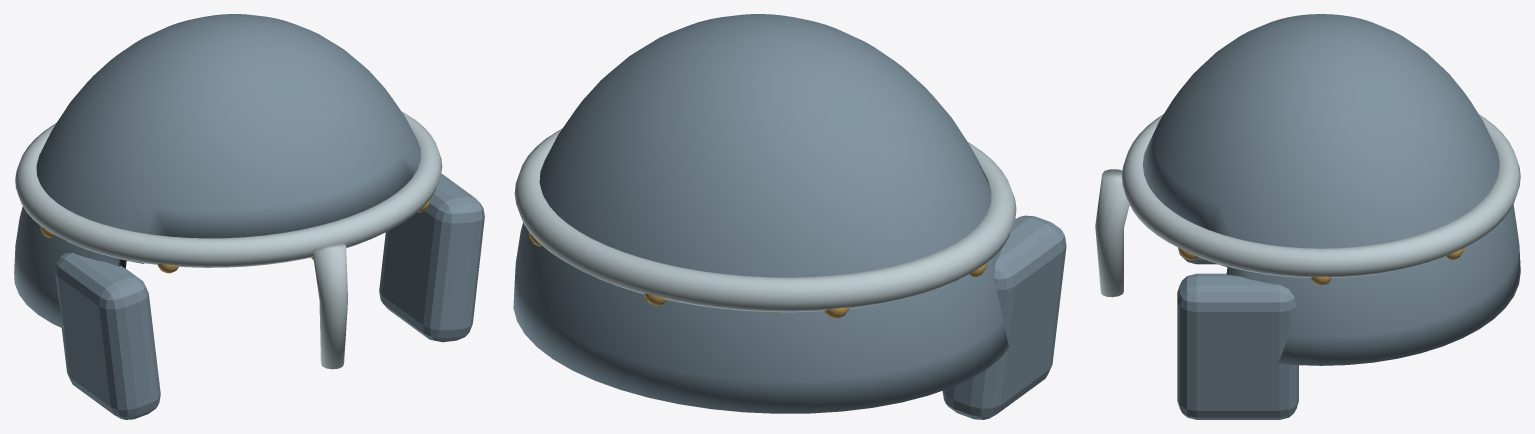
File: iron-helm.glb
3 renders of one model, left to right at view 1: azimuth 30°, elevation 25°; view 2: azimuth 150°, elevation 25°; view 3: azimuth 270°, elevation 25°, orthographic. The views are drawn at different scales.
Parts seen in each view (by area): view 1: Open-faced iron shell, Brow rim, Articulated cheek plate, Articulated cheek plate.001, Nasal guard; view 2: Open-faced iron shell, Brow rim, Articulated cheek plate; view 3: Open-faced iron shell, Articulated cheek plate.001, Brow rim, Nasal guard.
Boxes of the visible parts, left/top/right/bottom form: Open-faced iron shell: left=14, top=14, right=420, bottom=329; Brow rim: left=15, top=112, right=442, bottom=267; Articulated cheek plate: left=55, top=253, right=160, bottom=419; Articulated cheek plate.001: left=379, top=173, right=484, bottom=342; Nasal guard: left=313, top=243, right=347, bottom=369; Open-faced iron shell: left=513, top=14, right=1009, bottom=413; Brow rim: left=514, top=128, right=1016, bottom=312; Articulated cheek plate: left=942, top=215, right=1066, bottom=419; Open-faced iron shell: left=1142, top=14, right=1520, bottom=365; Articulated cheek plate.001: left=1177, top=273, right=1298, bottom=419; Brow rim: left=1122, top=114, right=1520, bottom=277; Nasal guard: left=1095, top=169, right=1129, bottom=297.
Bounding box in the file's own units: 0.8044 × 0.6108 × 0.768.
